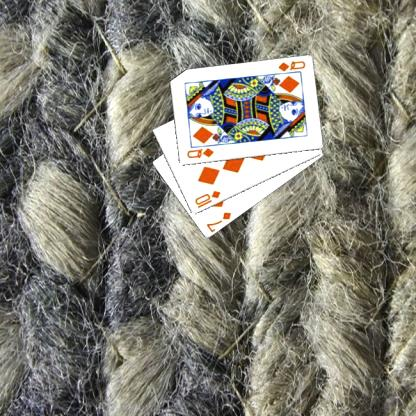10D: (192, 188, 221, 209)
7D: (204, 209, 233, 233)
QD: (275, 58, 307, 73), (184, 145, 215, 160)
